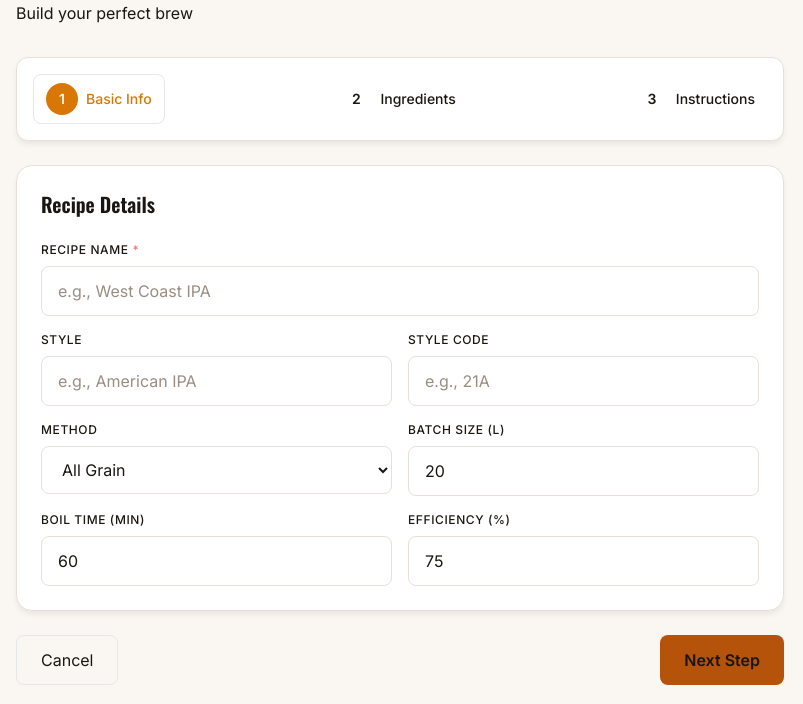
RecipeForm Page › Create Mode › shows calculated stats section
(page scrolled)
Click the button "Next Step".
click(722, 660)  # box [660,635,784,685]
(page scrolled)
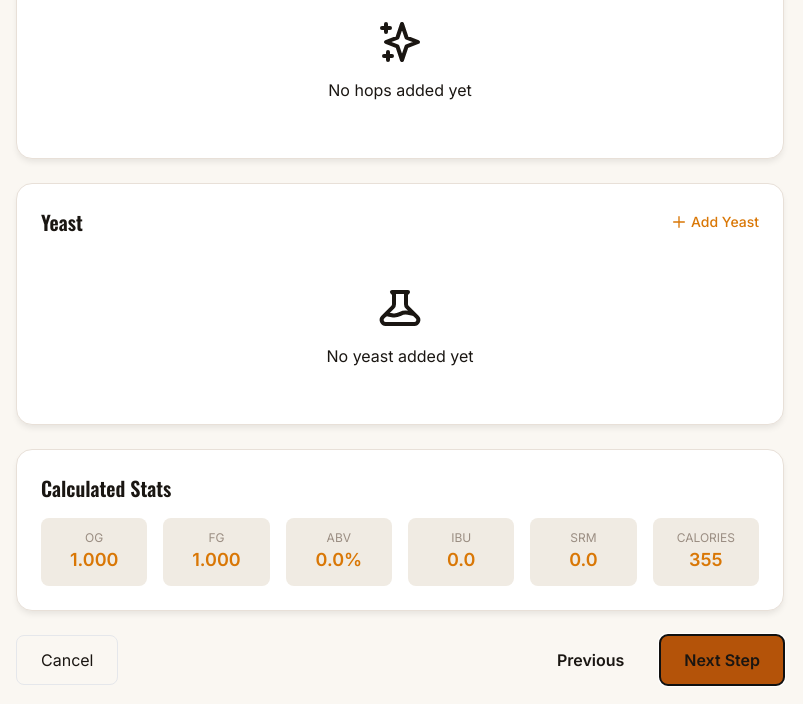
Now the heading "Calculated Stats" is shown, box [41,473,171,503]
Now the text "OG" is shown, box [85,530,103,545]
Now the text "FG" is shown, box [208,530,224,545]
